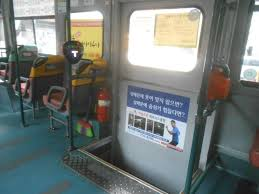exit: (114, 1, 218, 192)
